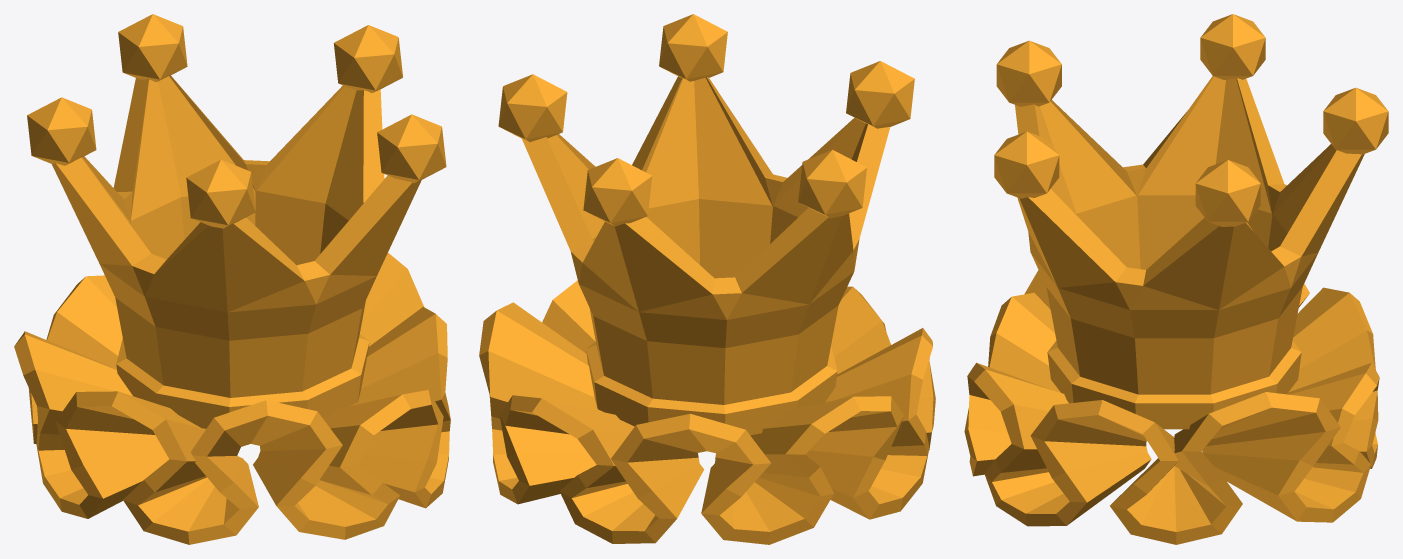
The model's file is SM_Cat_Crown_B.fbx.
3 views of the same model, side by side, from view 1: azimuth 30°, elevation 25°; view 2: azimuth 150°, elevation 25°; view 3: azimuth 270°, elevation 25° (orthographic).
Visible parts, largest first — view 1: SM_Cat_Crown_B; view 2: SM_Cat_Crown_B; view 3: SM_Cat_Crown_B.
Part boxes in pixels (x1,y1,x2,y2): SM_Cat_Crown_B: (14, 14, 450, 544); SM_Cat_Crown_B: (479, 14, 935, 544); SM_Cat_Crown_B: (964, 14, 1388, 544).
Bounding box in the file's own units: 0.0409 × 0.0389 × 0.0393.
